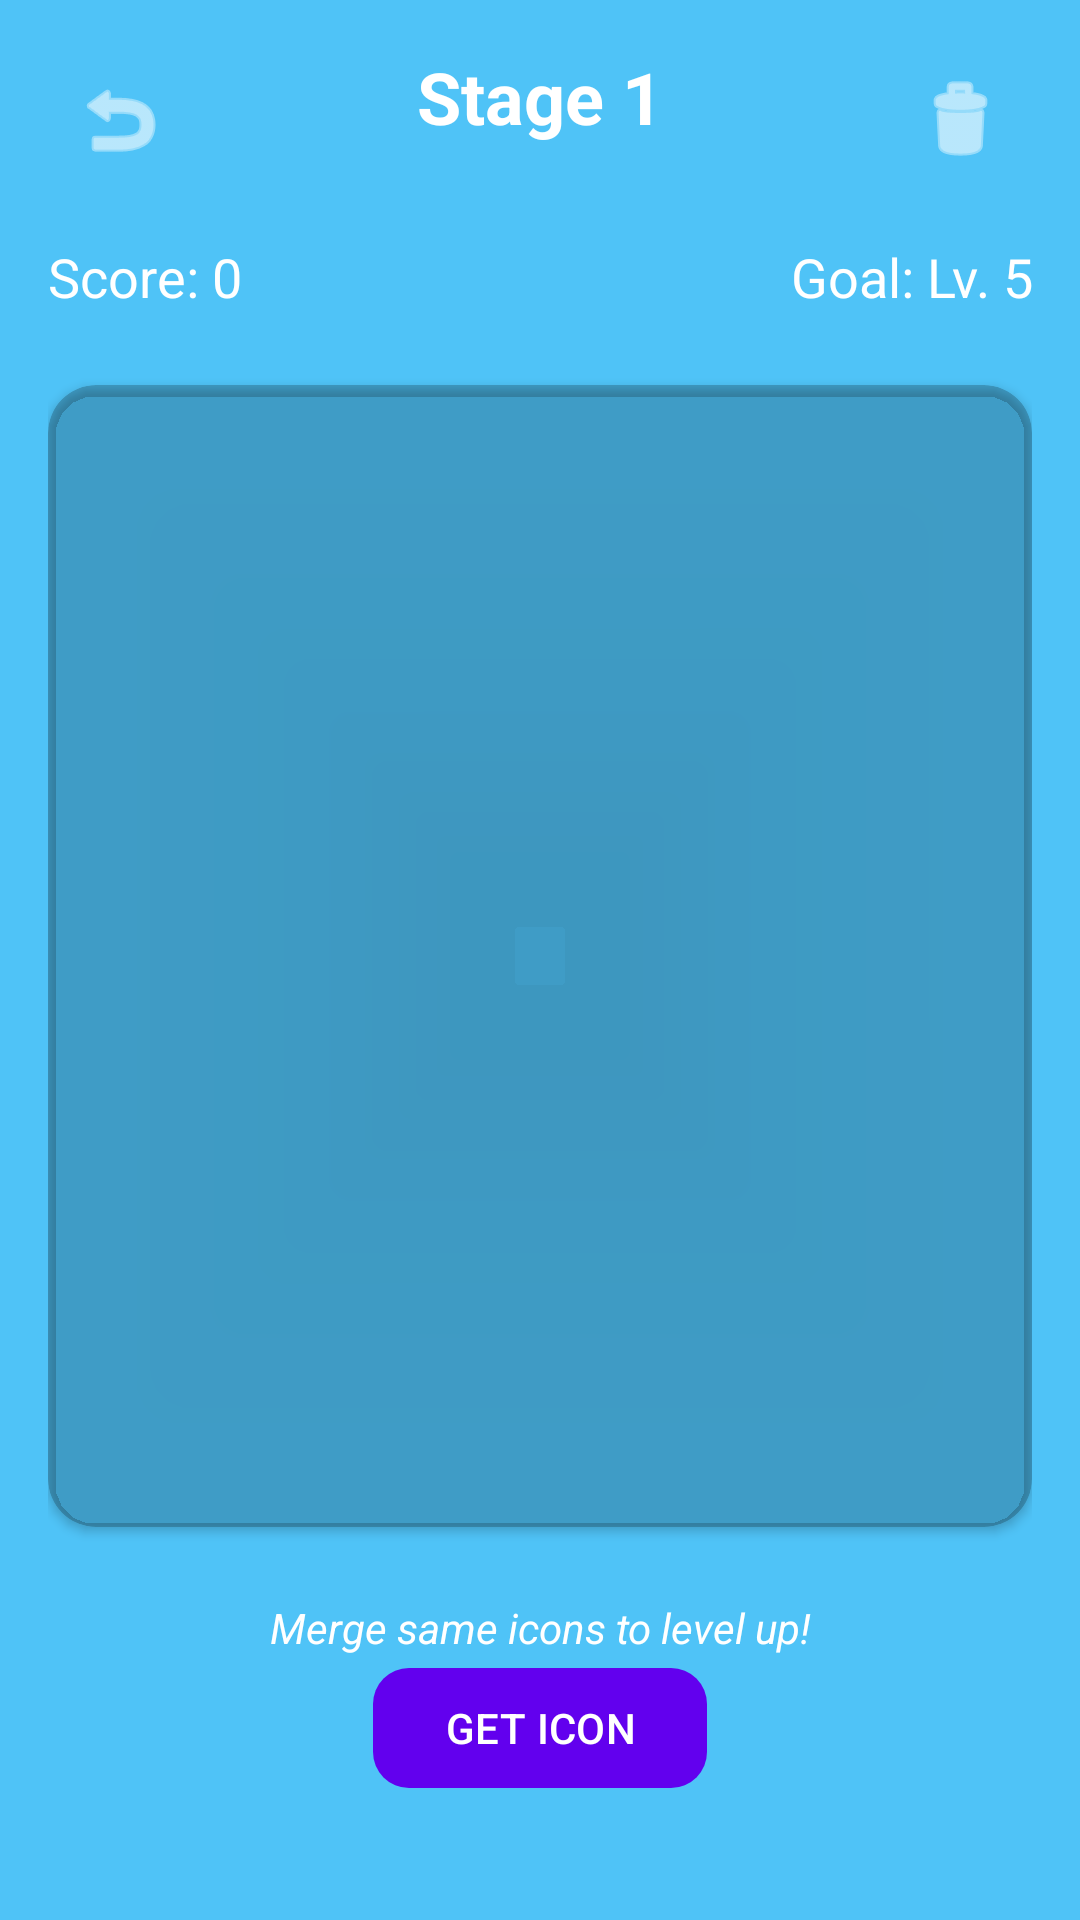

Locate icon controls on the screen. Image size 1080 × 1920, boxes as (x1, y1, x2, y2).
delete: (934, 81, 987, 156)
revert: (87, 89, 156, 152)
